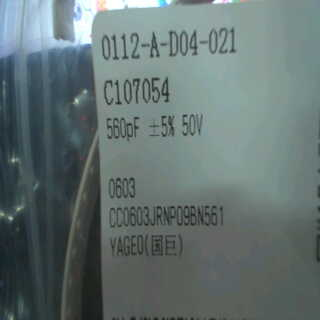560pF: (103, 113, 144, 143)
